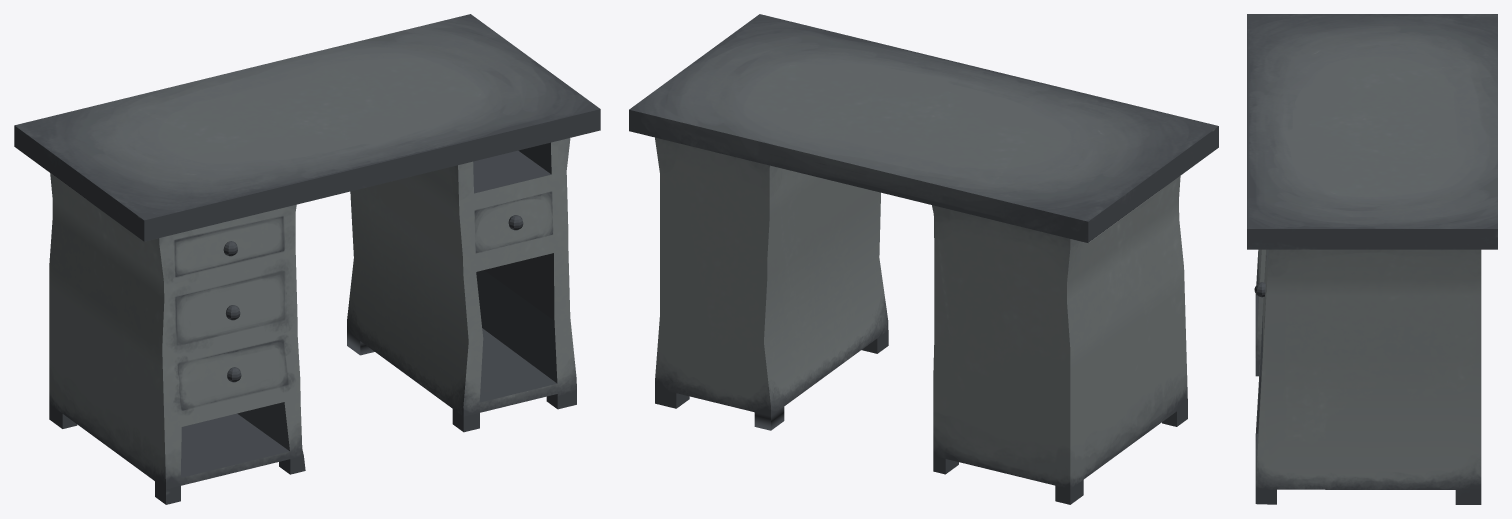
The model's file is New_desk.fbx.
3 renders of one model, left to right at view 1: azimuth 30°, elevation 25°; view 2: azimuth 150°, elevation 25°; view 3: azimuth 270°, elevation 25°, orthographic. The views are drawn at different scales.
Parts seen in each view (by area): view 1: Desk; view 2: Desk; view 3: Desk.
Boxes of the visible parts, x1,y1,x2,y2 form: Desk: (14,14,600,504); Desk: (629,14,1218,504); Desk: (1247,14,1497,504).
Size of the model in its own units: 148 by 91.38 by 73.14.
Materials: 2 (2 with a texture image).
